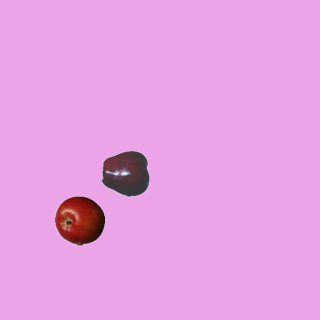Apple Braeburn: (54, 195, 104, 245)
Apple Red Delicious: (101, 148, 151, 198)
